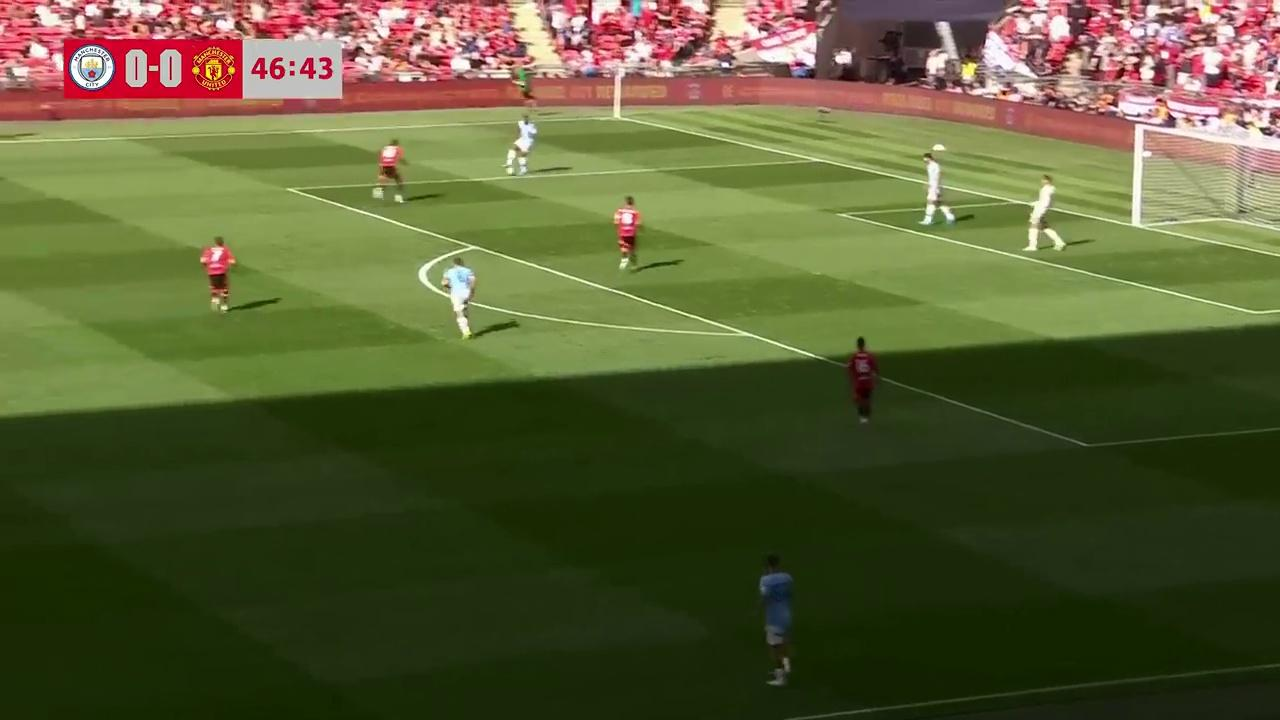ball: (370, 183, 384, 201)
player: (757, 552, 794, 686), (844, 336, 879, 428), (1023, 175, 1065, 251), (441, 257, 476, 339), (200, 236, 236, 313), (919, 154, 954, 225), (373, 139, 408, 203), (613, 195, 641, 271), (507, 115, 537, 175)
